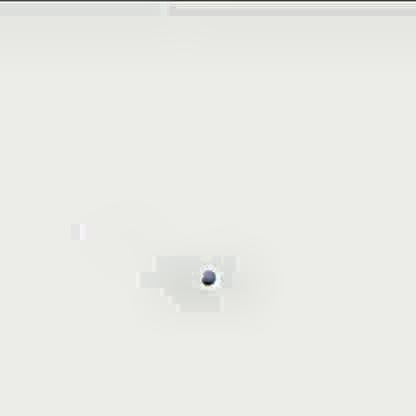golfball: (198, 266, 216, 284)
